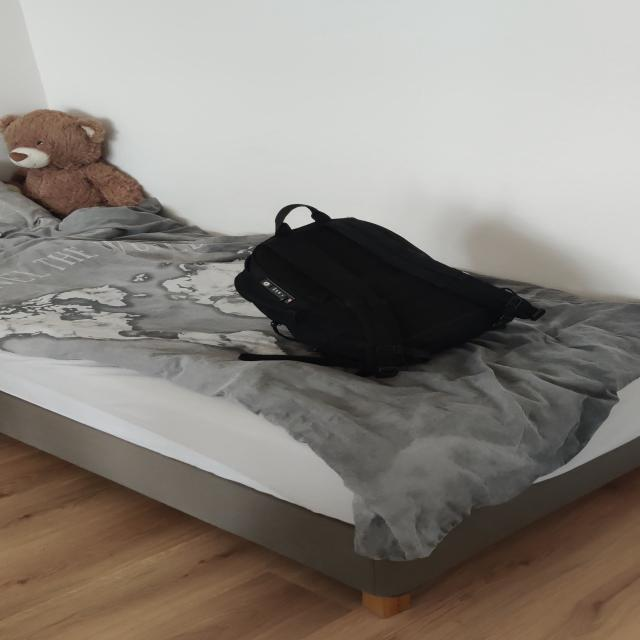backpack: (218, 206, 536, 380)
